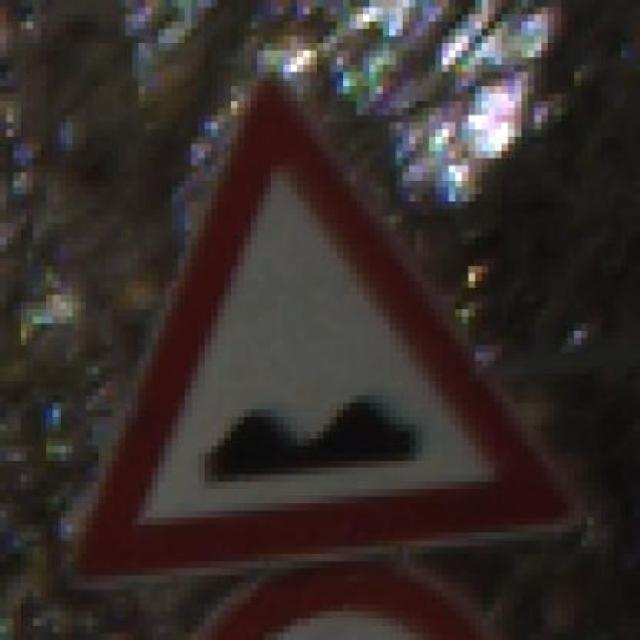Uneven Road: (49, 66, 577, 569)
